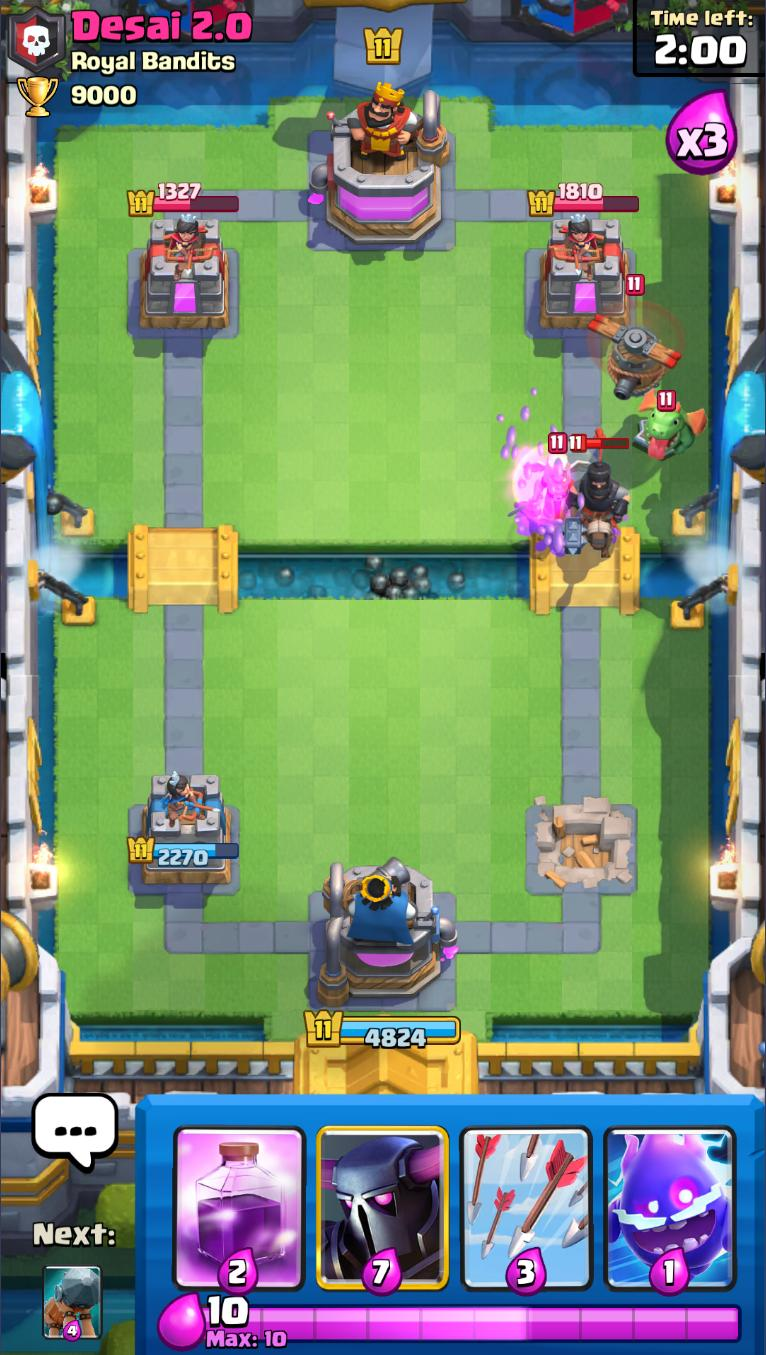ArrowDeck: (455, 1099, 598, 1295)
BabyDragon: (638, 386, 708, 465)
BattleRamNext: (41, 1262, 105, 1343)
DarkPrince: (567, 435, 633, 561)
ElectroSpiritDeck: (597, 1097, 742, 1298)
Elixir: (203, 1296, 744, 1351)
EnemyTower: (135, 216, 234, 331), (537, 216, 633, 333)
FlyingMachine: (590, 273, 680, 402)
Healer: (515, 431, 589, 522)
KingTower: (307, 78, 453, 247)
MyKingHP: (302, 1010, 462, 1053)
MyKingTower: (315, 859, 460, 1009)
MyPrincessTower: (128, 772, 242, 890)
MyPrincessTowerBrocken: (526, 798, 641, 900)
MyPrincessTowerHP: (127, 836, 241, 869)
PekkaDeck: (312, 1101, 453, 1296)
RageDeck: (166, 1096, 312, 1295)
TowerPrincessHP: (528, 182, 640, 219), (128, 182, 241, 218)
